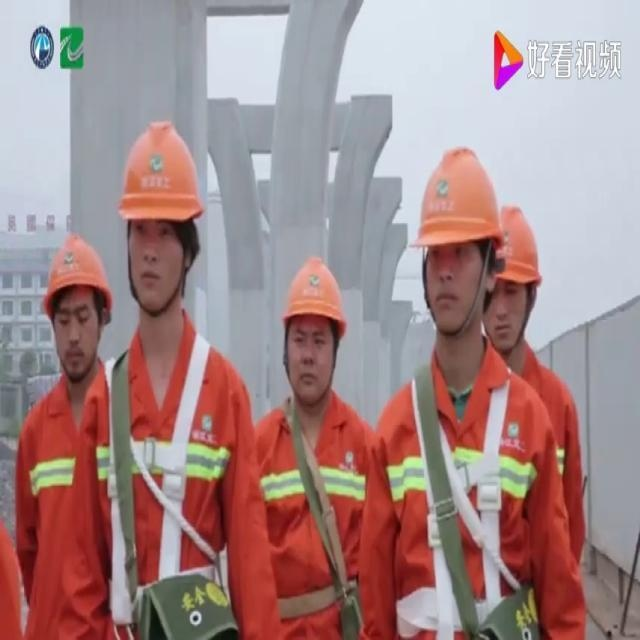Arnes_seguridad: (392, 347, 531, 639), (100, 321, 224, 628)
